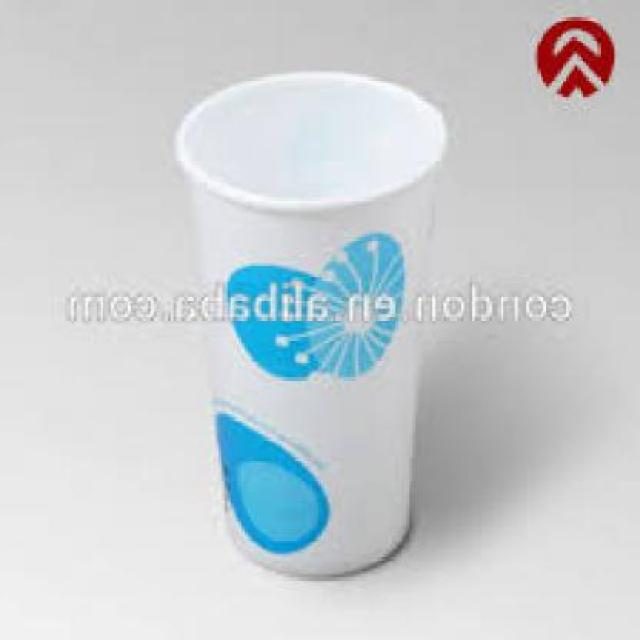PAPER: (176, 66, 453, 577)
